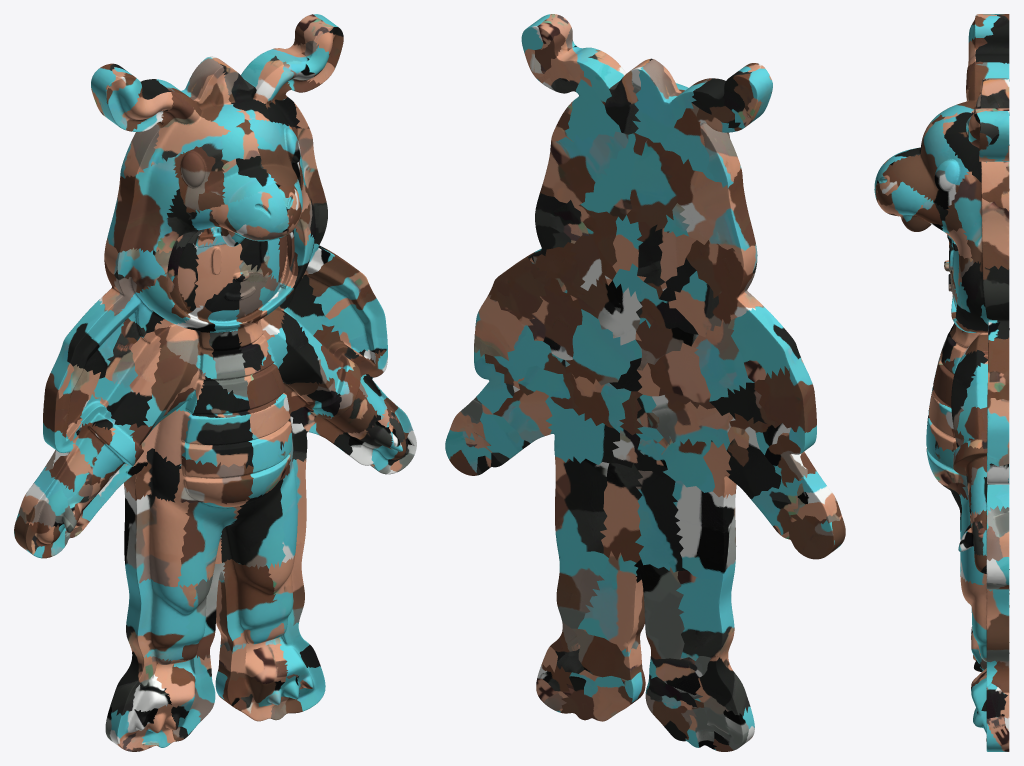
Rendered from CardboardDragonite.fbx.
3 renders of one model, left to right at view 1: azimuth 30°, elevation 25°; view 2: azimuth 150°, elevation 25°; view 3: azimuth 270°, elevation 25°, orthographic. The views are drawn at different scales.
Visible parts, largest first — view 1: Mesh_0; view 2: Mesh_0; view 3: Mesh_0.
Boxes of the visible parts, x1=… form: Mesh_0: x1=14, y1=14, x2=416, y2=751; Mesh_0: x1=445, y1=14, x2=845, y2=751; Mesh_0: x1=874, y1=14, x2=1009, y2=751.
Size of the model in its own units: 113 by 190 by 35.71.
